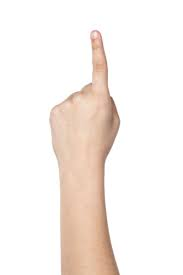hand: (45, 24, 128, 201)
